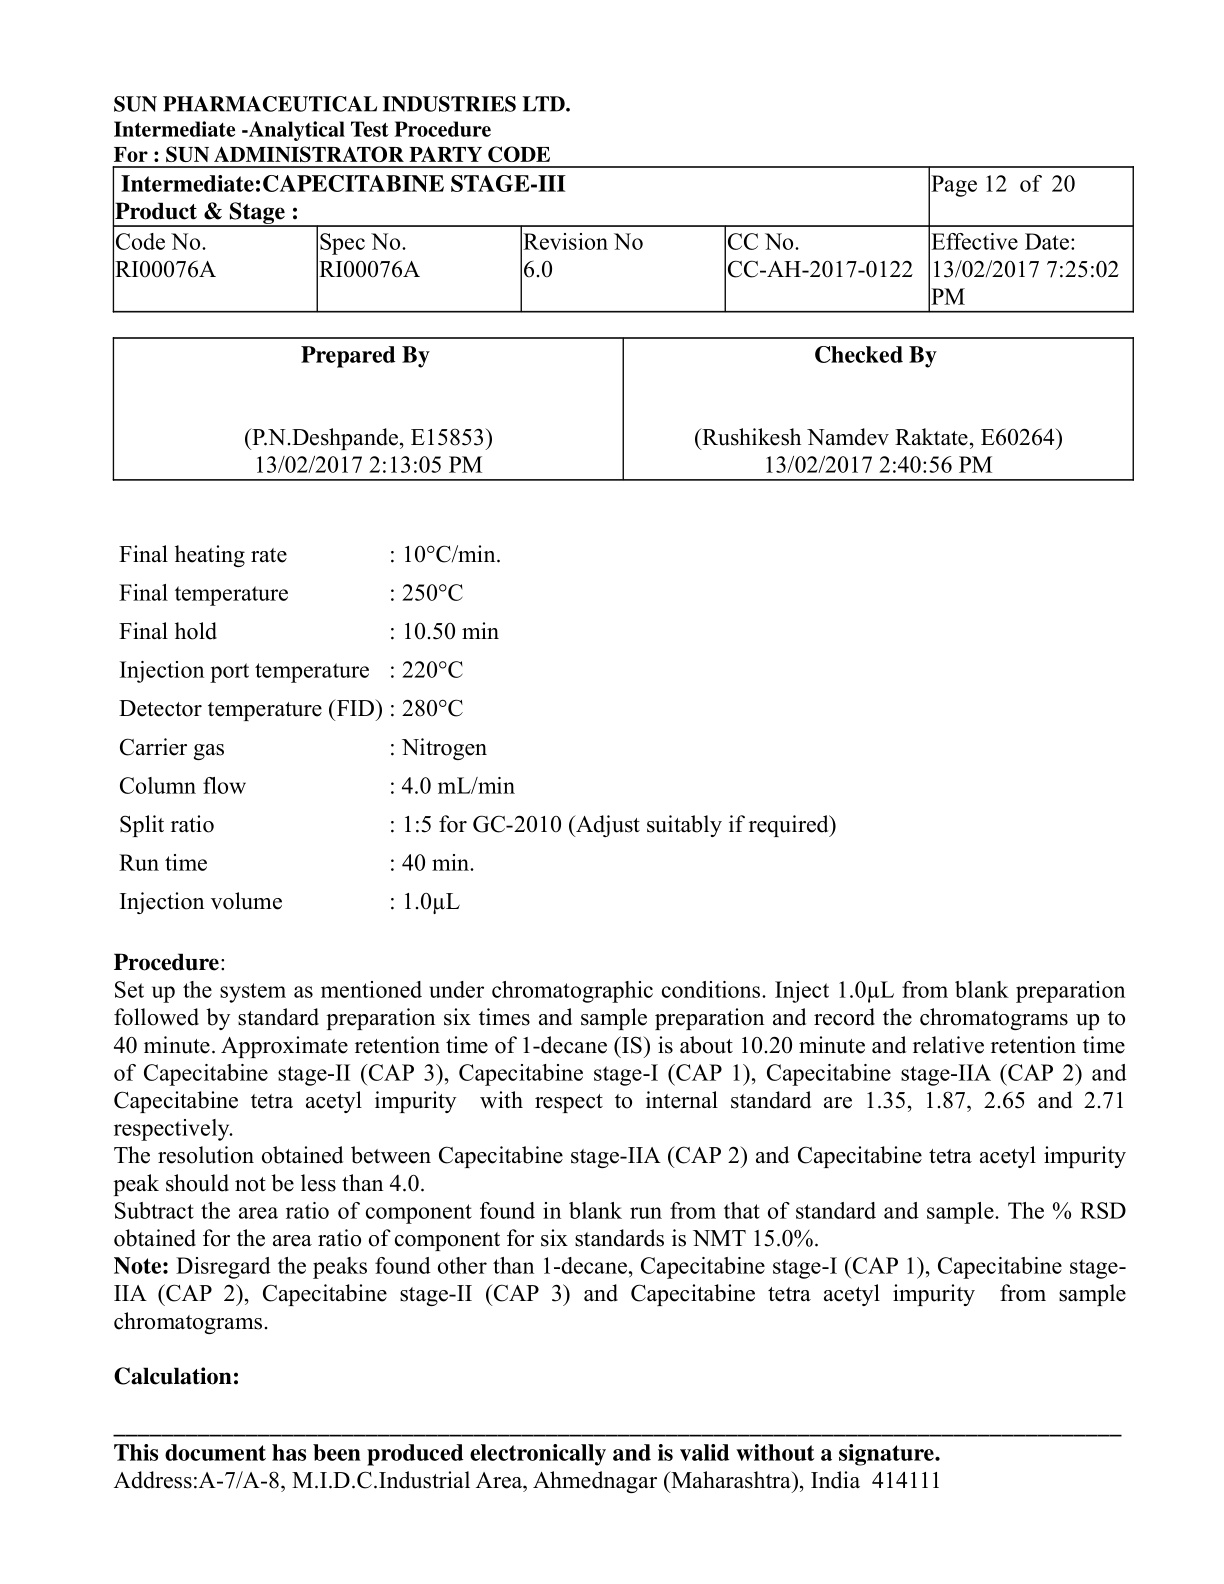full_lined: (111, 336, 1137, 483)
merged_cells: (111, 165, 1137, 314)
nolines: (114, 543, 838, 915)
